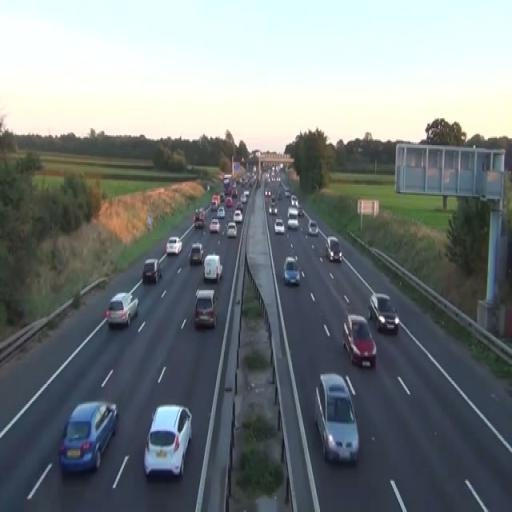Car: (58, 400, 118, 475), (314, 372, 360, 466), (143, 405, 193, 480), (342, 314, 377, 368), (368, 293, 400, 334), (106, 292, 138, 327), (193, 288, 218, 329), (142, 258, 162, 284), (283, 255, 300, 285), (189, 242, 204, 266), (166, 236, 182, 256)
